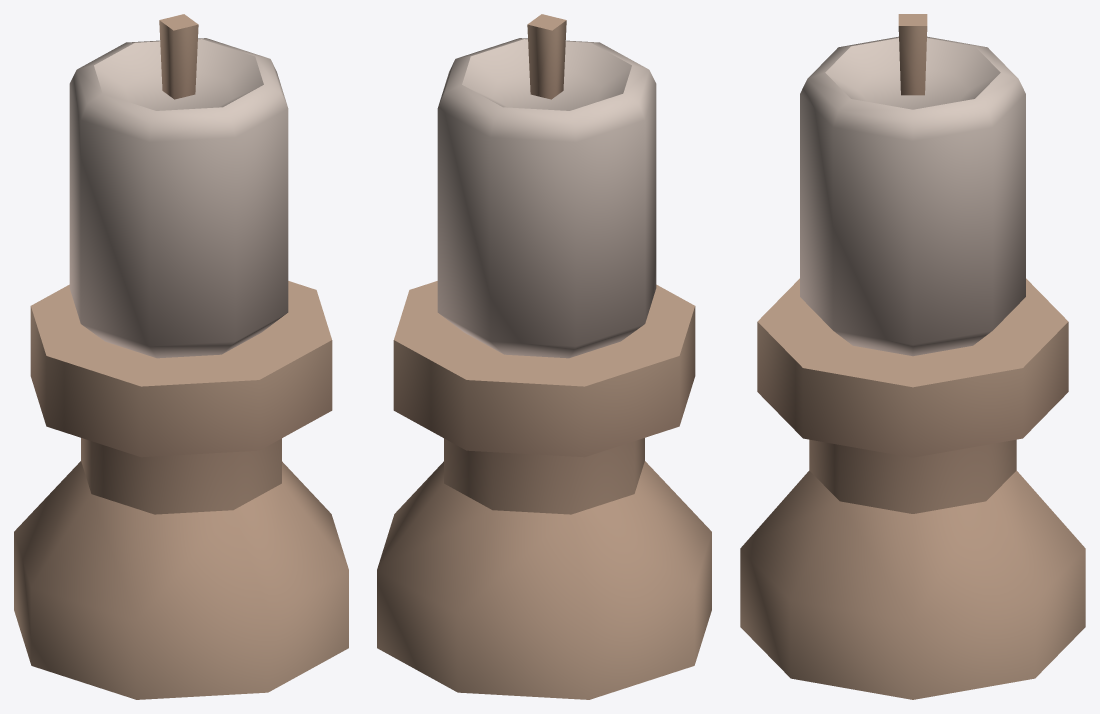
The model's file is candle-holder-small.glb.
3 views of the same model, side by side, from view 1: azimuth 30°, elevation 25°; view 2: azimuth 150°, elevation 25°; view 3: azimuth 270°, elevation 25° (orthographic).
Visible parts, largest first — view 1: candle-holder-small; view 2: candle-holder-small; view 3: candle-holder-small.
Part boxes in pixels (bbox=[...]): candle-holder-small: bbox=[14, 14, 348, 699]; candle-holder-small: bbox=[377, 14, 711, 699]; candle-holder-small: bbox=[740, 14, 1085, 699].
Bounding box in the file's own units: 0.134 × 0.2591 × 0.134.
